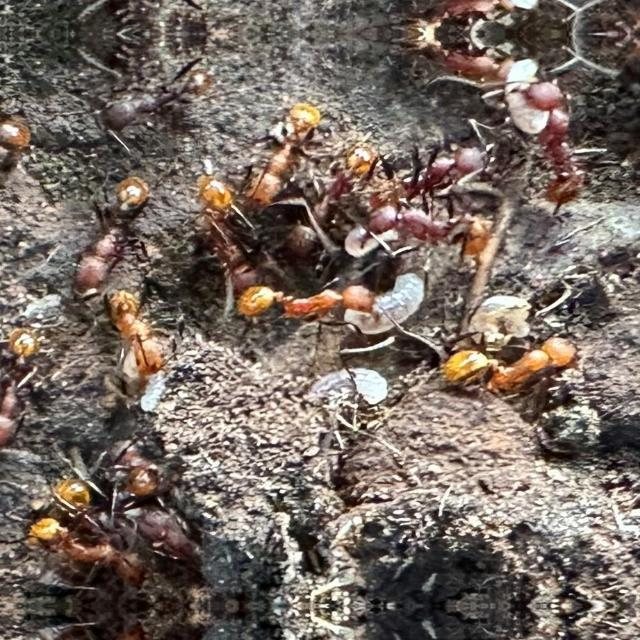Apheanogaster: (178, 168, 278, 322), (436, 323, 598, 417), (56, 166, 168, 300), (226, 262, 398, 344), (80, 44, 226, 140), (508, 67, 602, 215), (20, 509, 162, 595), (357, 128, 499, 214), (352, 193, 504, 269), (240, 94, 330, 212), (96, 284, 184, 386), (0, 315, 60, 463), (306, 133, 388, 225), (48, 464, 114, 528), (20, 616, 160, 640), (78, 0, 225, 22)
